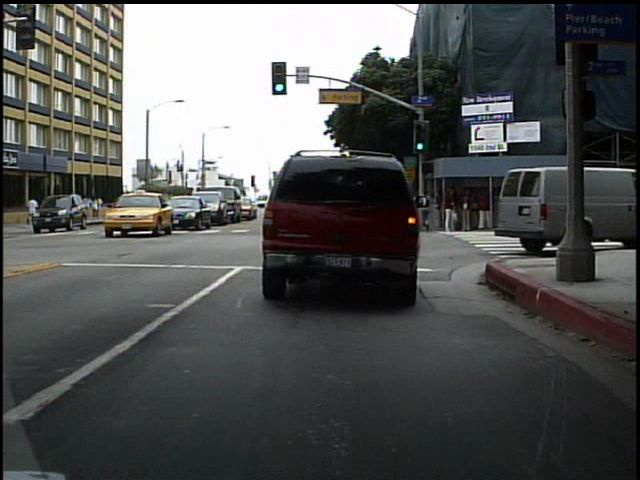person: (508, 173, 531, 238), (23, 194, 39, 229)
